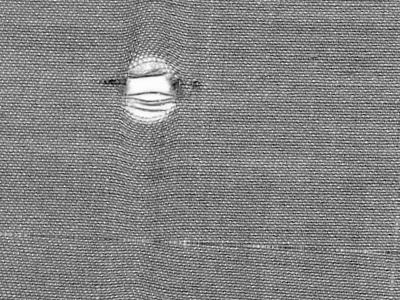hole: (117, 50, 184, 136)
